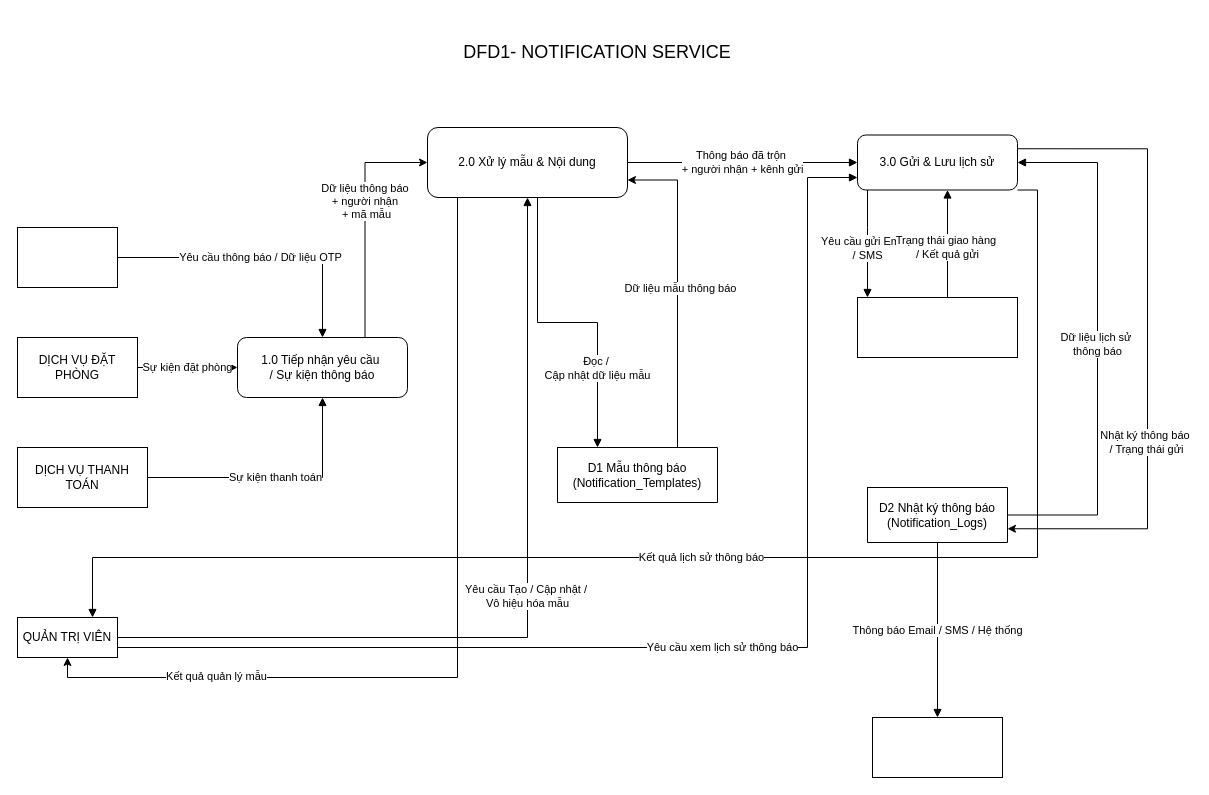
This 1209x795 diagram has some shape labels left out. Each missing label, with the centre of its shape:
DỊCH VỤ NGƯỜI DÙNG: pixel 67 257
KHÁCH HÀNG / ĐỐI TÁC: pixel 937 747
NHÀ CUNG CẤP EMAIL / SMS: pixel 937 327
